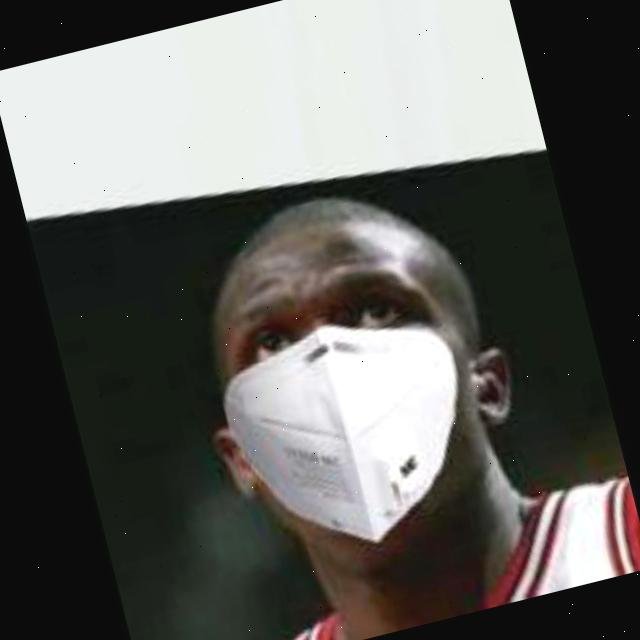suspicion: (127, 166, 557, 574)
